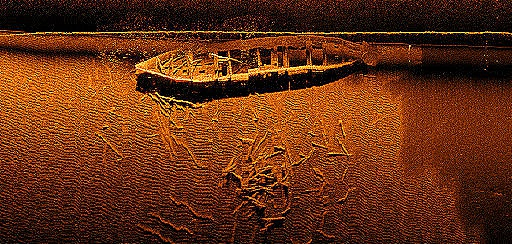ship: (134, 34, 379, 86)
